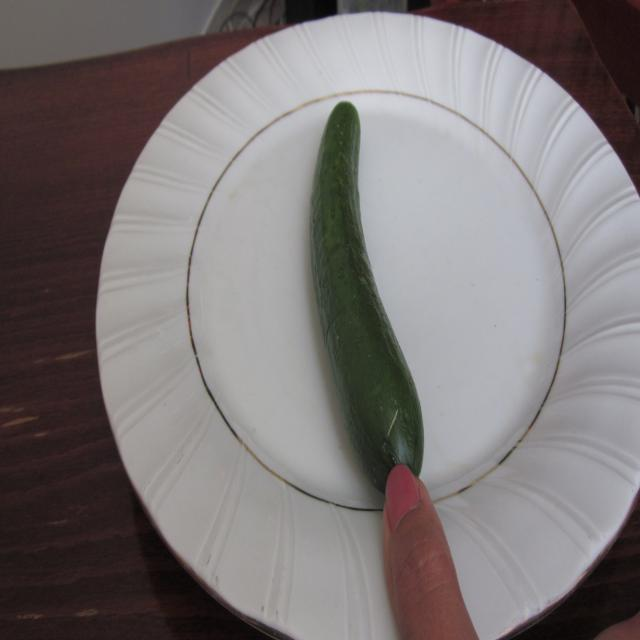Cucumber: (305, 97, 430, 463)
Finger: (382, 468, 462, 640)
